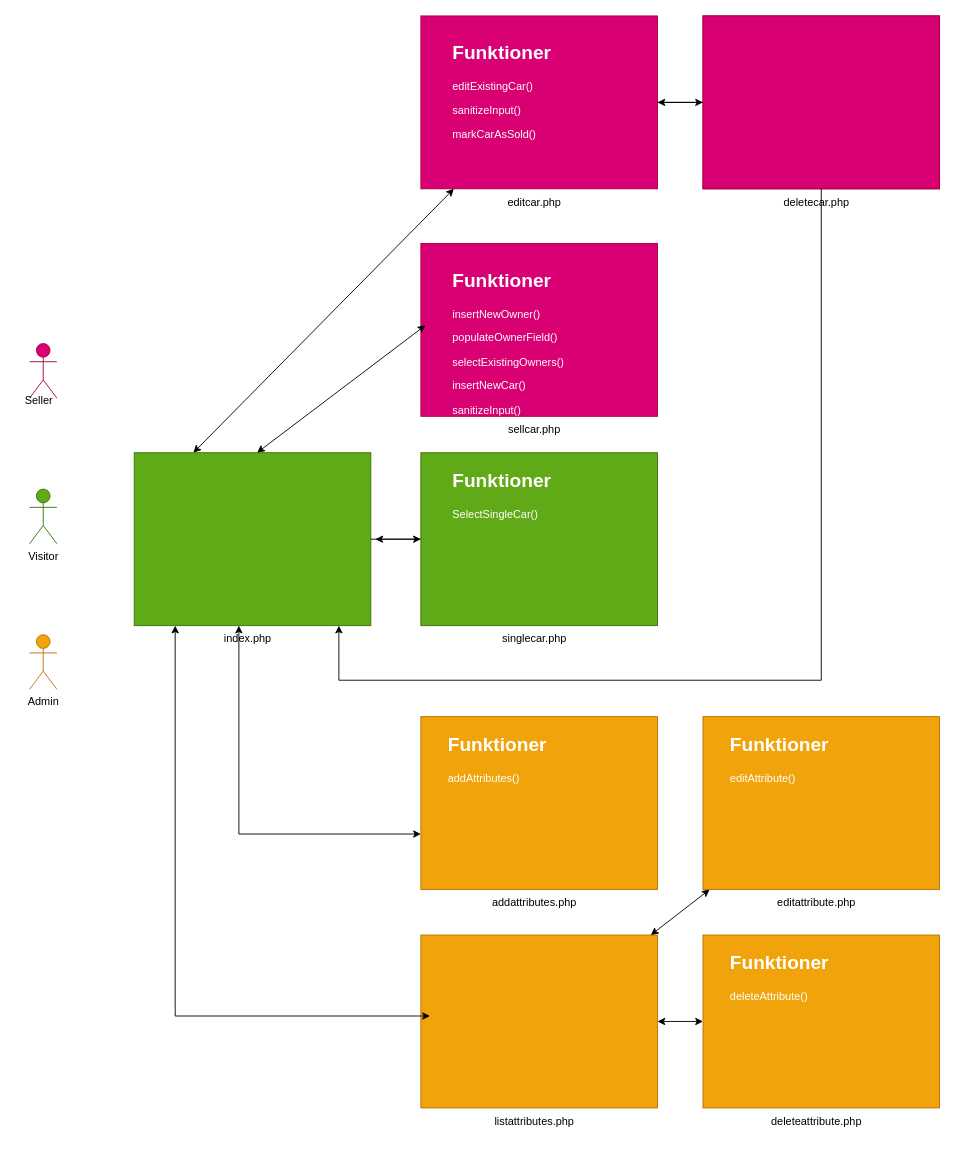
Image size: 956x1151. Some labels were removed from this diagram. Here are the shapes that lost their labels. From the top down, the centre of each, then its label:
(821,102): Funktioner deleteCar()
(252,539): Funktioner SelectAllCars() filterCars() sortCars() populateCarField()
(538,1021): Funktioner selectChosenAttribute() populateAttributeFiles()
